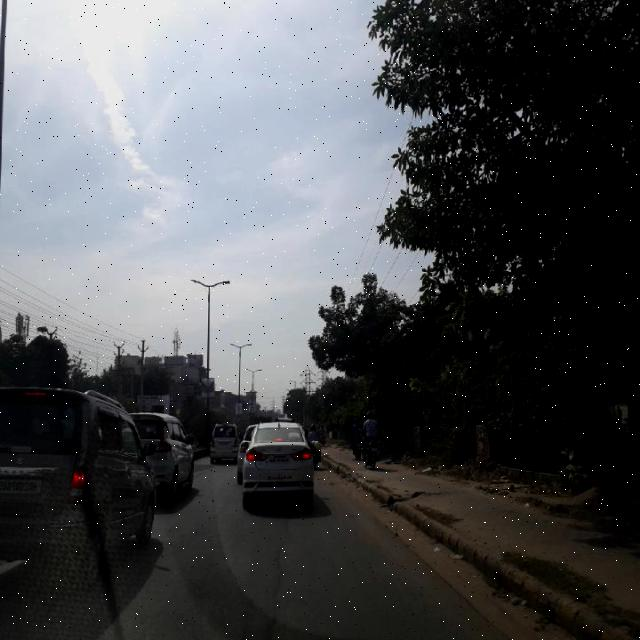D00: (258, 528, 302, 639)
